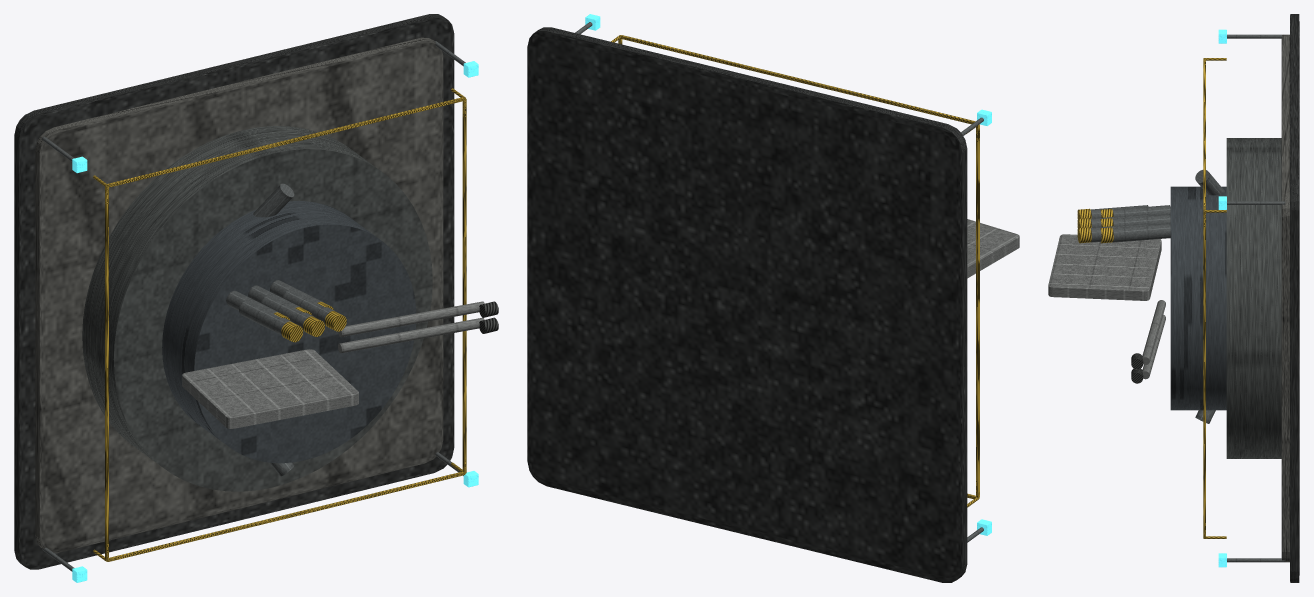
Rendered from b-33-counter-uas-lod0.glb.
3 views of the same model, side by side, from view 1: azimuth 30°, elevation 25°; view 2: azimuth 150°, elevation 25°; view 3: azimuth 270°, elevation 25° (orthographic). The views are drawn at different scales.
Visible parts, largest first — view 1: foundation_inner_pad, turret_base, primary_turret_yaw, foundation, primary_flat_radar, turret_service_railing_rail_y_3.7, turret_service_railing_rail_x_3.7, turret_service_railing_rail_x_-3.7, cuas_gun_barrel_0, cuas_gun_barrel_1, turret_service_railing_rail_y_-3.7, micro_missile_3_tube (+3 smaller); view 2: foundation, primary_flat_radar, turret_service_railing_rail_x_3.7, turret_service_railing_rail_y_-3.7; view 3: turret_base, primary_turret_yaw, primary_flat_radar, foundation, foundation_inner_pad, turret_service_railing_rail_y_3.7, micro_missile_2_tube, cuas_gun_barrel_1, micro_missile_1_tube, micro_missile_0_tube, turret_service_railing_rail_x_3.7, tripod_leg_1 (+1 smaller).
Part boxes in pixels (x1,y1,x2,y2): foundation_inner_pad: (35, 37, 443, 552); turret_base: (82, 126, 432, 491); primary_turret_yaw: (162, 201, 416, 463); foundation: (14, 14, 454, 569); primary_flat_radar: (182, 349, 358, 428); turret_service_railing_rail_y_3.7: (462, 98, 466, 473); turret_service_railing_rail_x_3.7: (107, 97, 465, 187); turret_service_railing_rail_x_-3.7: (107, 471, 465, 561); cuas_gun_barrel_0: (338, 317, 484, 353); cuas_gun_barrel_1: (338, 301, 484, 337); turret_service_railing_rail_y_-3.7: (105, 186, 108, 560); micro_missile_3_tube: (239, 300, 293, 334); foundation: (527, 27, 967, 582); primary_flat_radar: (967, 219, 1019, 278); turret_service_railing_rail_x_3.7: (620, 35, 975, 124); turret_service_railing_rail_y_-3.7: (976, 124, 979, 498); turret_base: (1226, 138, 1281, 458); primary_turret_yaw: (1170, 186, 1226, 410); primary_flat_radar: (1048, 234, 1161, 300); foundation: (1290, 14, 1299, 582); foundation_inner_pad: (1281, 34, 1289, 562); turret_service_railing_rail_y_3.7: (1203, 211, 1205, 538); micro_missile_2_tube: (1112, 223, 1170, 242); cuas_gun_barrel_1: (1142, 300, 1165, 364); micro_missile_1_tube: (1112, 214, 1170, 226); micro_missile_0_tube: (1112, 205, 1170, 216); turret_service_railing_rail_x_3.7: (1203, 58, 1205, 211); tripod_leg_1: (1195, 170, 1224, 195).
Size of what is drawn, in the model's own units: 9 by 9 by 5.16.
9 materials, 9 textured.
